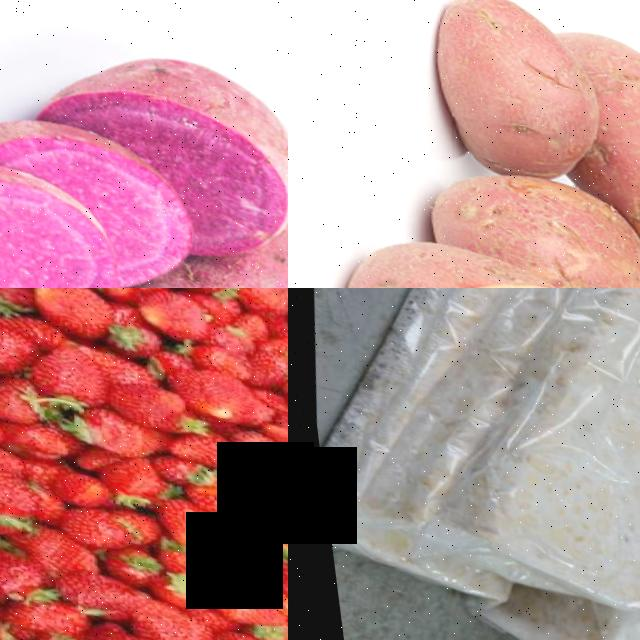strawberry: (23, 332, 112, 405), (75, 618, 168, 640), (192, 616, 263, 640)
sweet potato: (95, 24, 288, 218), (412, 0, 614, 183), (406, 145, 637, 276), (311, 218, 591, 288), (0, 143, 124, 288)
tempeh: (415, 371, 640, 618), (546, 288, 640, 442), (456, 581, 640, 640)
